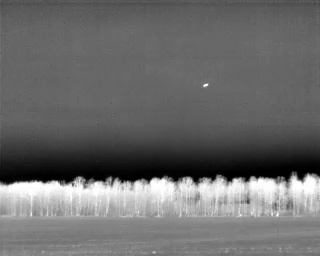DRONE: (200, 80, 212, 91)
